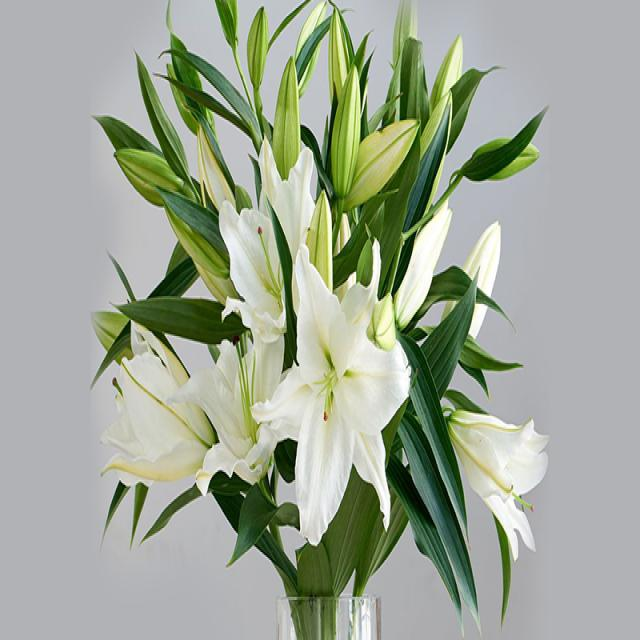lily: (261, 226, 455, 572)
